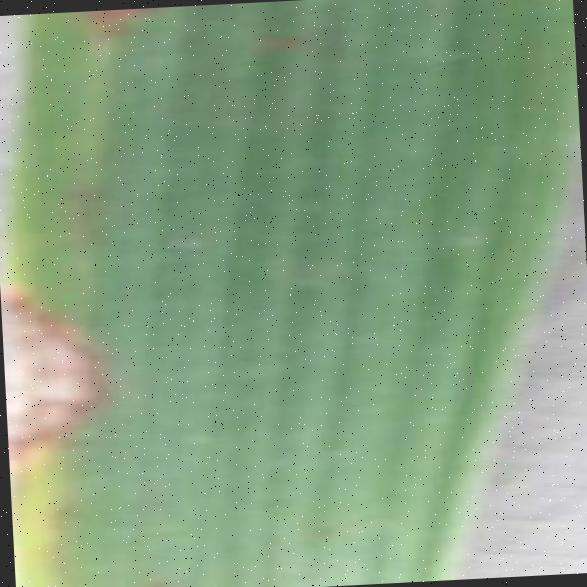Leaf_smut: (0, 251, 135, 498)
